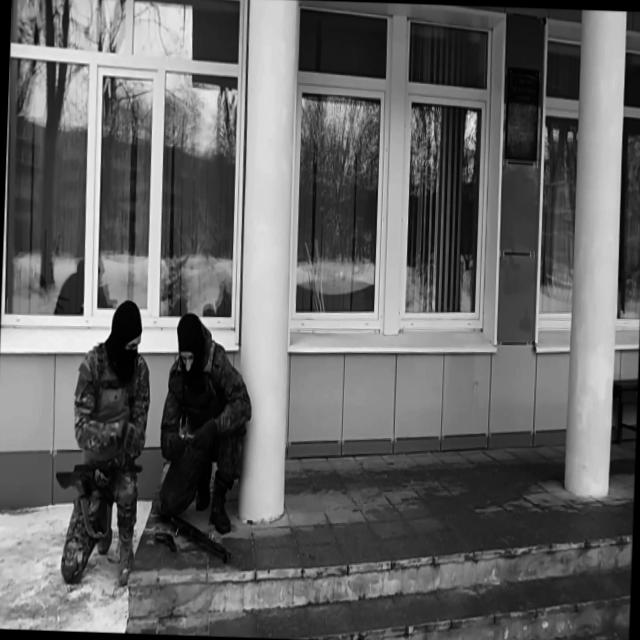gun: (149, 496, 234, 566), (54, 454, 144, 509), (153, 528, 178, 554)
person with a gun: (50, 294, 154, 586), (157, 310, 255, 536)
